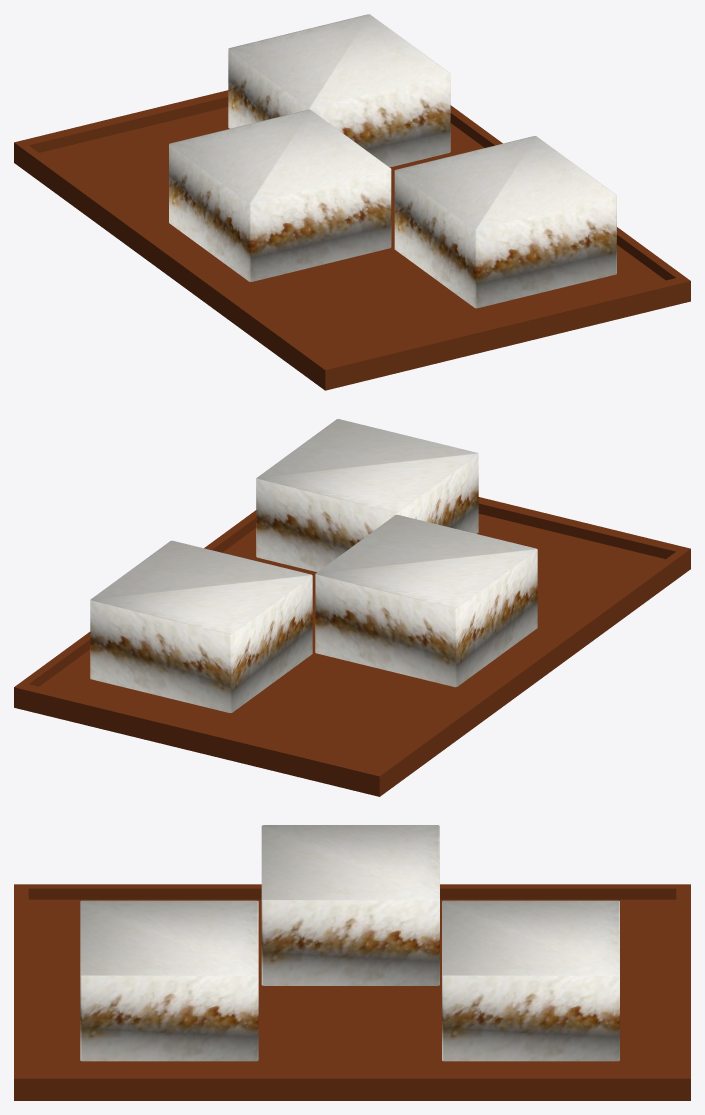
The model's file is 백설기_FBX.fbx.
3 renders of one model, top to bottom at view 1: azimuth 30°, elevation 25°; view 2: azimuth 150°, elevation 25°; view 3: azimuth 270°, elevation 25°, orthographic. The views are drawn at different scales.
Visible parts, largest first — view 1: Cube.001, Cube, Cube.003, Cube.002; view 2: Cube.001, Cube, Cube.002, Cube.003; view 3: Cube.001, Cube.003, Cube.002, Cube.
Part boxes in pixels (<box>): Cube.001: <box>14,90,690,390</box>; Cube: <box>169,109,391,281</box>; Cube.003: <box>394,136,616,308</box>; Cube.002: <box>228,14,450,167</box>; Cube.001: <box>14,497,690,796</box>; Cube: <box>315,514,537,687</box>; Cube.002: <box>90,540,312,712</box>; Cube.003: <box>256,419,478,572</box>; Cube.001: <box>14,884,690,1100</box>; Cube.003: <box>80,900,258,1061</box>; Cube.002: <box>442,900,619,1061</box>; Cube: <box>261,825,439,985</box>.
Bounding box in the file's own units: 148 × 36.33 × 218.
Materials: 4 (3 with a texture image).
